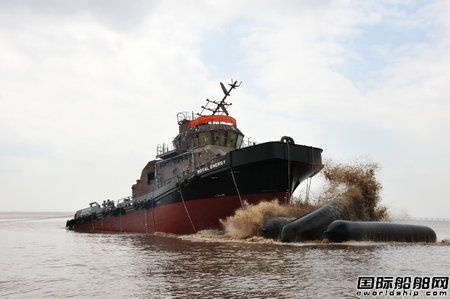otherboat: (64, 83, 320, 235)
